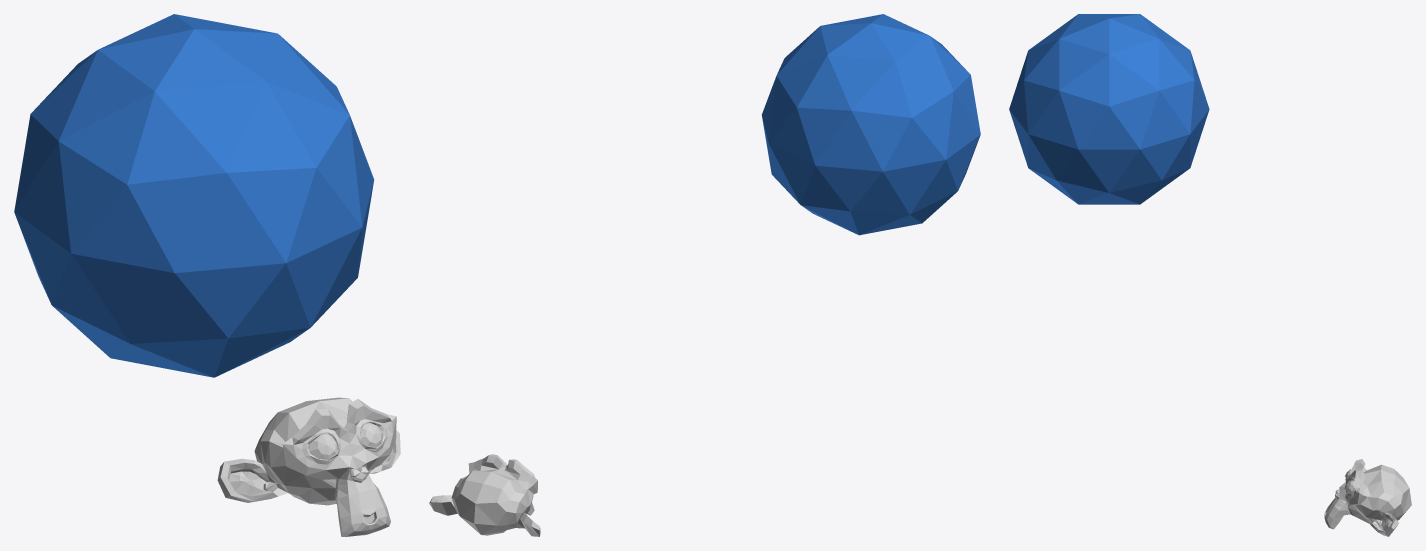
The model's file is texture_06.dae.
3 renders of one model, left to right at view 1: azimuth 30°, elevation 25°; view 2: azimuth 150°, elevation 25°; view 3: azimuth 270°, elevation 25°, orthographic. The views are drawn at different scales.
Parts seen in each view (by area): view 1: Icosphere, Suzanne; view 2: Icosphere, Suzanne; view 3: Icosphere, Suzanne.
Part boxes in pixels (x1=…): Icosphere: x1=14, y1=14, x2=374, y2=377; Suzanne: x1=217, y1=397, x2=400, y2=536; Icosphere: x1=762, y1=14, x2=980, y2=235; Suzanne: x1=429, y1=454, x2=540, y2=536; Icosphere: x1=1009, y1=14, x2=1209, y2=204; Suzanne: x1=1324, y1=459, x2=1411, y2=536.
Bounding box in the file's own units: 3.87 × 4.02 × 4.48.
